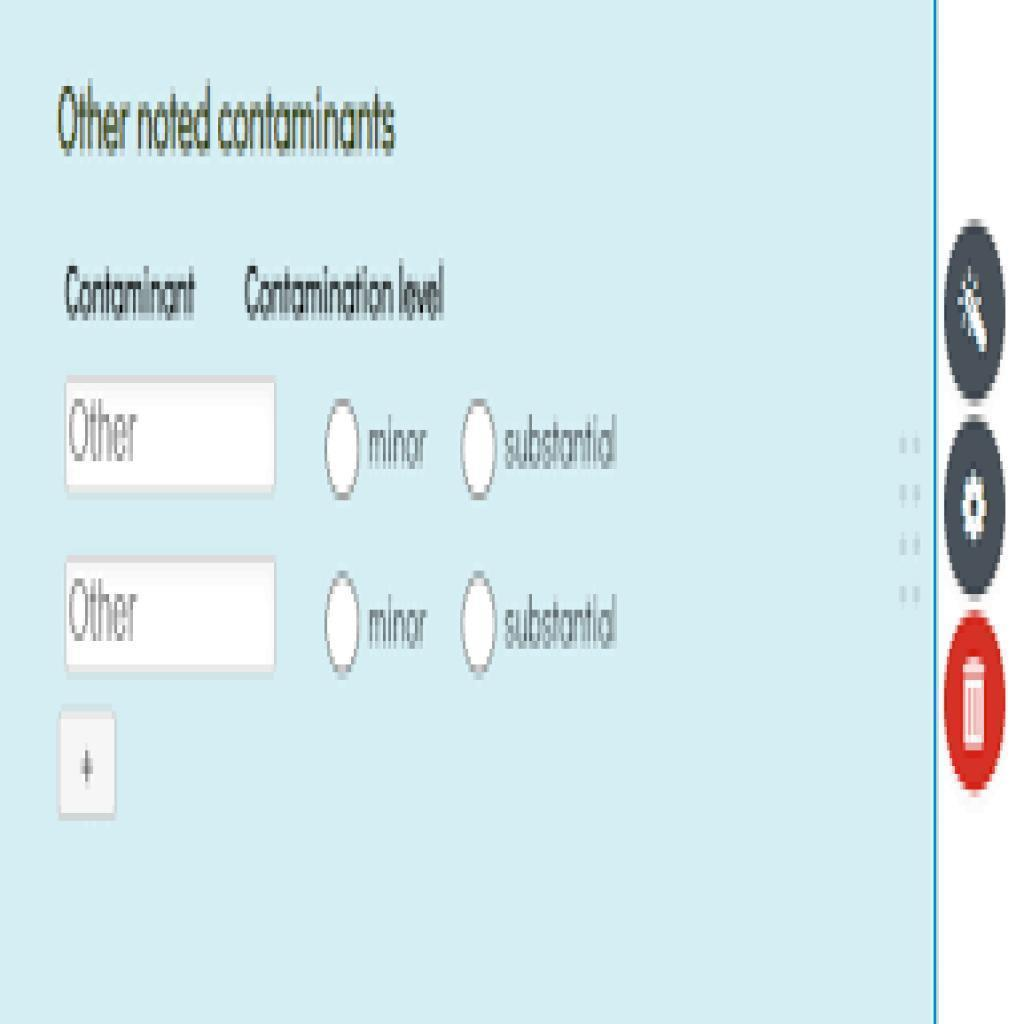button: (58, 716, 117, 815)
input: (66, 555, 279, 673), (72, 378, 272, 488)
label: (52, 83, 405, 164), (235, 260, 455, 330), (64, 260, 204, 326), (501, 410, 626, 478), (501, 598, 622, 660), (362, 412, 433, 474), (367, 598, 423, 653)
radio: (456, 395, 498, 499), (456, 572, 497, 678), (322, 572, 362, 678), (323, 399, 364, 501)
